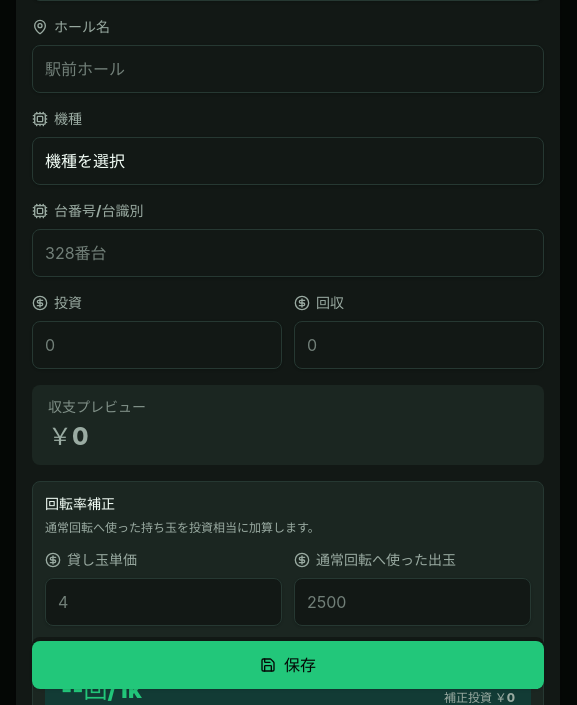
log form › updates profit preview as investment and payout change
The width and height of the screenshot is (577, 705).
(page scrolled)
Type "10000" into the number field labelled "投資" at coordinates (157, 345), box [32,321,282,369]
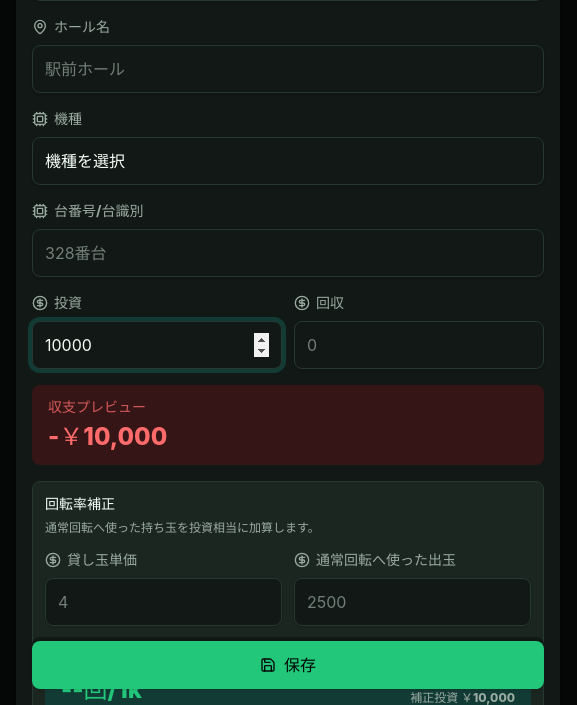
Type "15000" into the number field labelled "回収" at coordinates (419, 345), box [294,321,544,369]
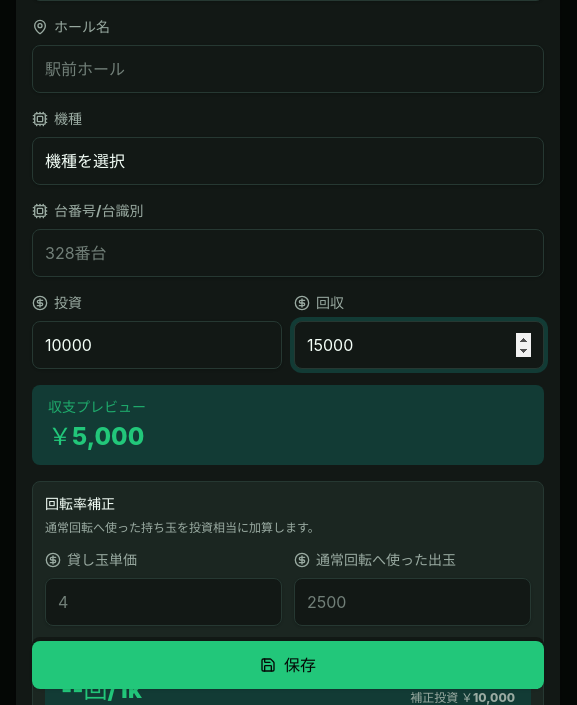
Check: the element labelled "収支プレビュー" shows "￥5,000", box [48,422,144,451]
